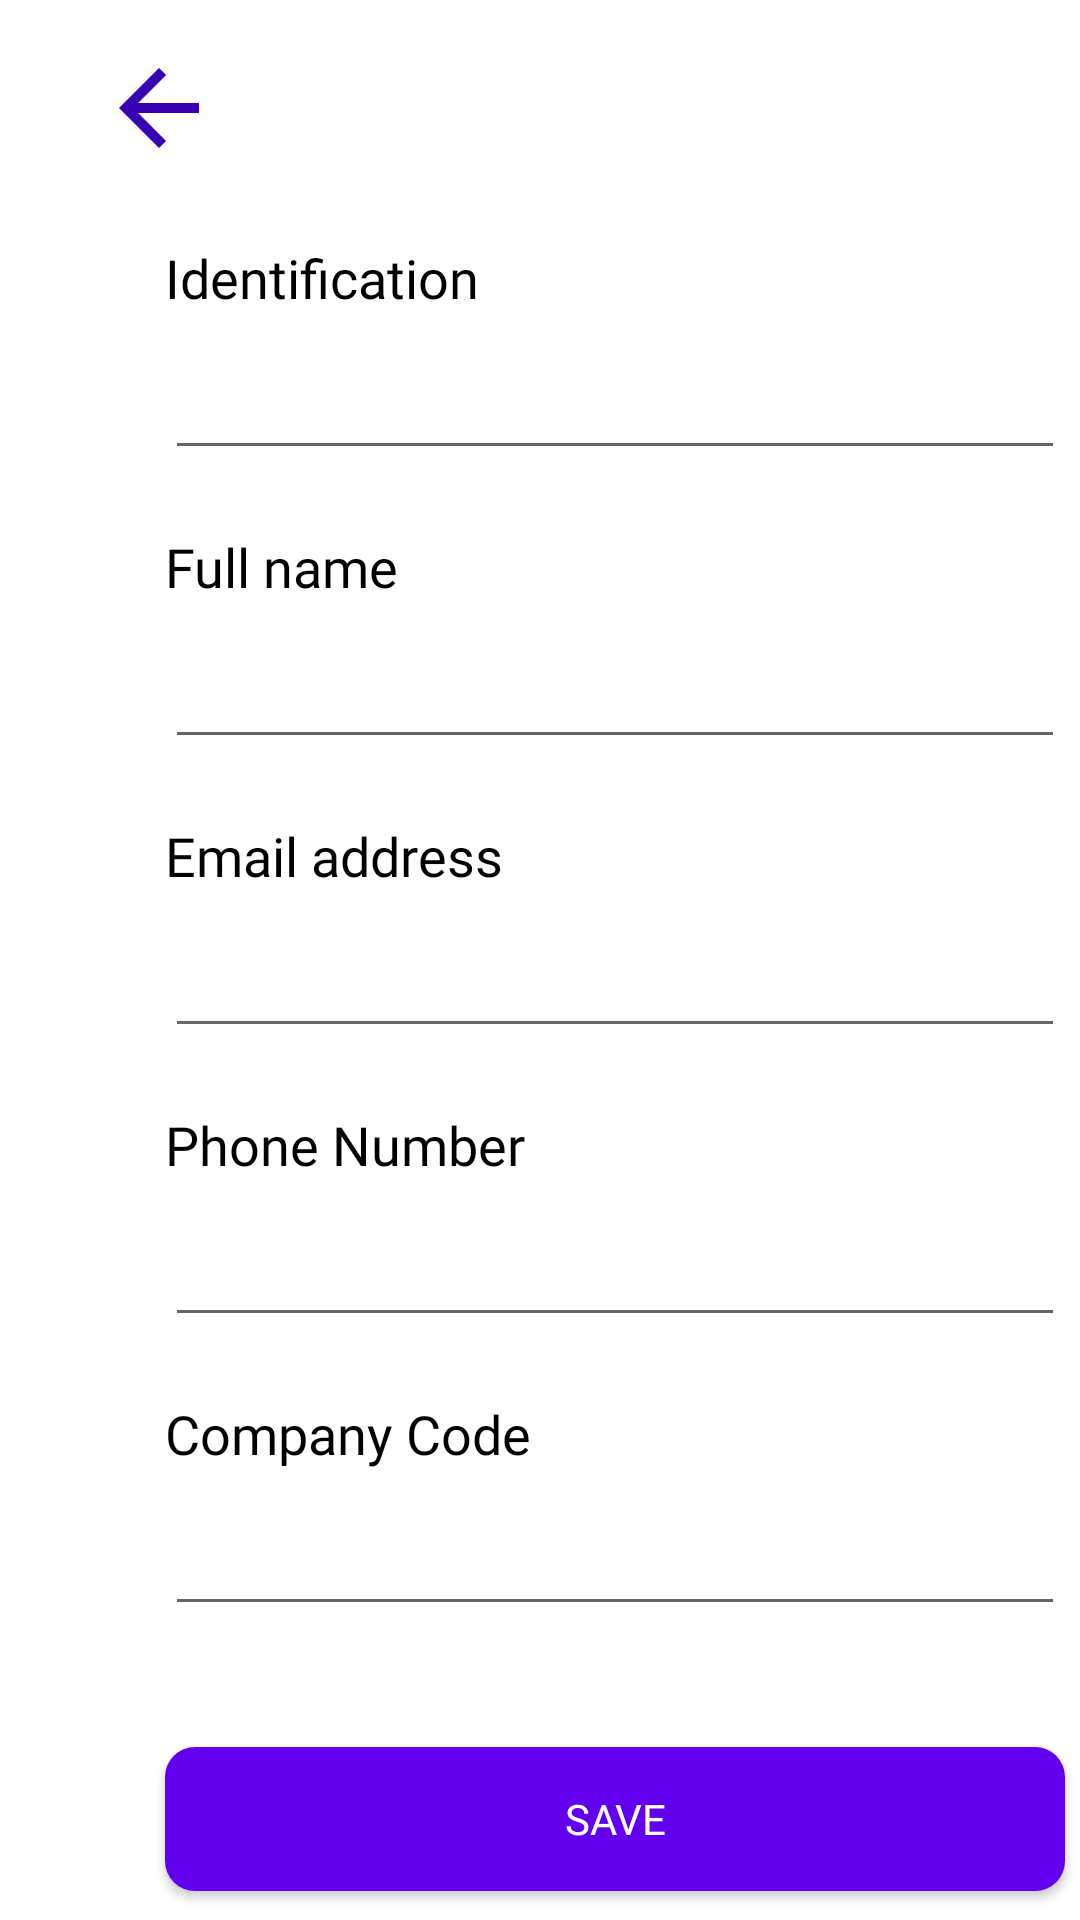

Point at icon controls on the screen. Image size 1080px×1920px, points as [x,y].
arrow back: [159,108]
